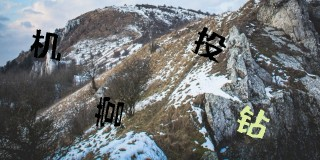投: (192, 26, 226, 62)
机: (31, 28, 62, 60)
营: (93, 95, 125, 127)
钻: (237, 104, 270, 139)
